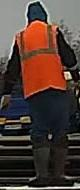gloves: (0, 93, 12, 114), (75, 79, 80, 93)
vest: (16, 21, 68, 99)
